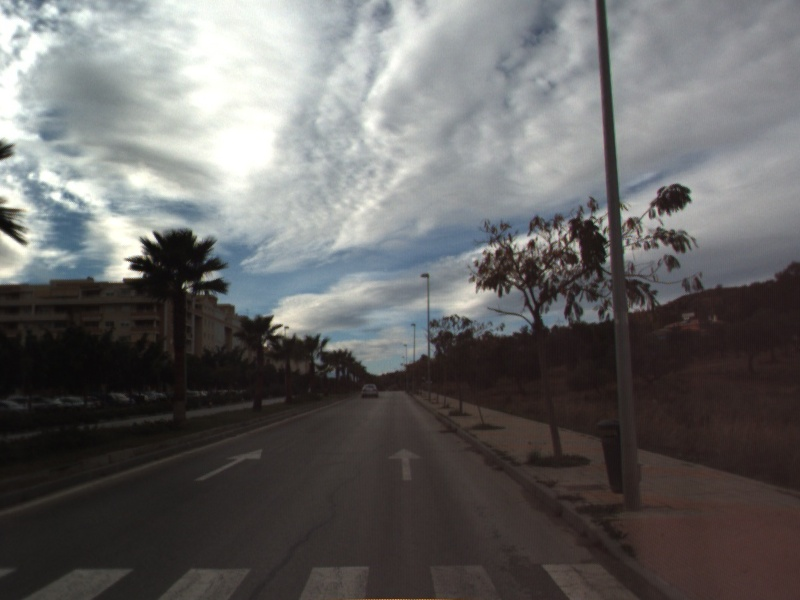STRAIGHT: (192, 447, 264, 483), (386, 446, 423, 482)
